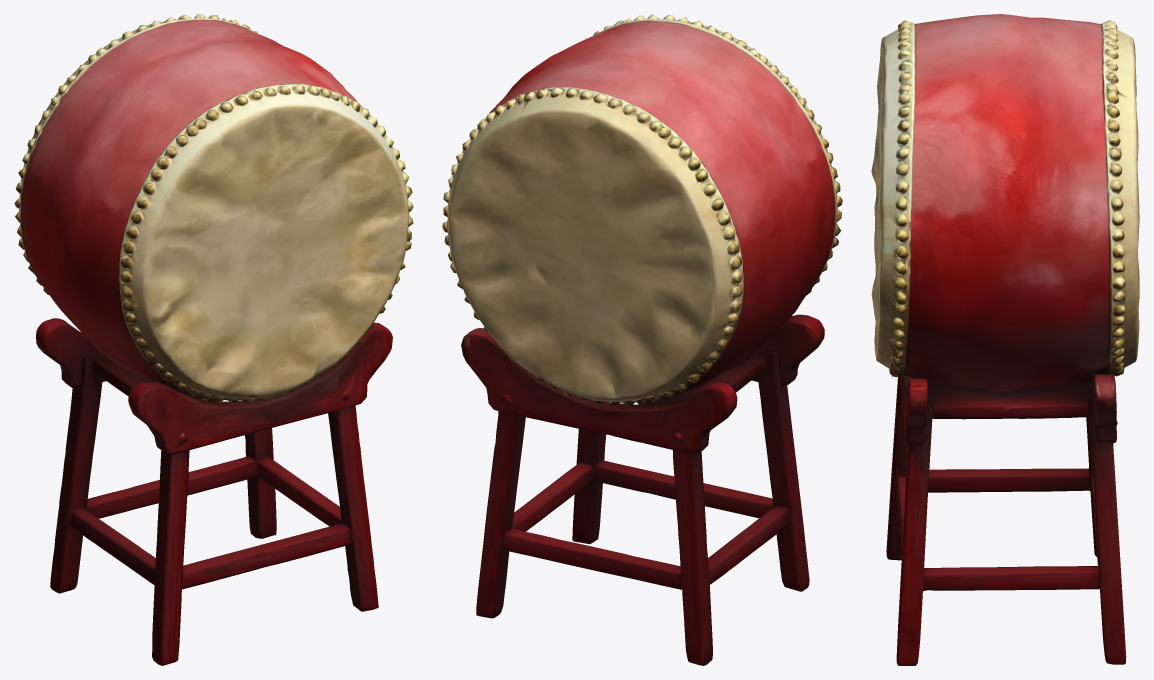
Rendered from drum-high.glb.
3 renders of one model, left to right at view 1: azimuth 30°, elevation 25°; view 2: azimuth 150°, elevation 25°; view 3: azimuth 270°, elevation 25°, orthographic. The views are drawn at different scales.
Size of the model in its own units: 0.5932 by 0.9997 by 0.4215.
Materials: 1 (1 with a texture image).
